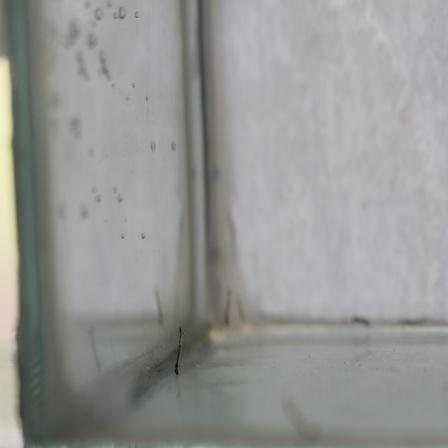Jentik-Nyamuk: (168, 323, 186, 381)
